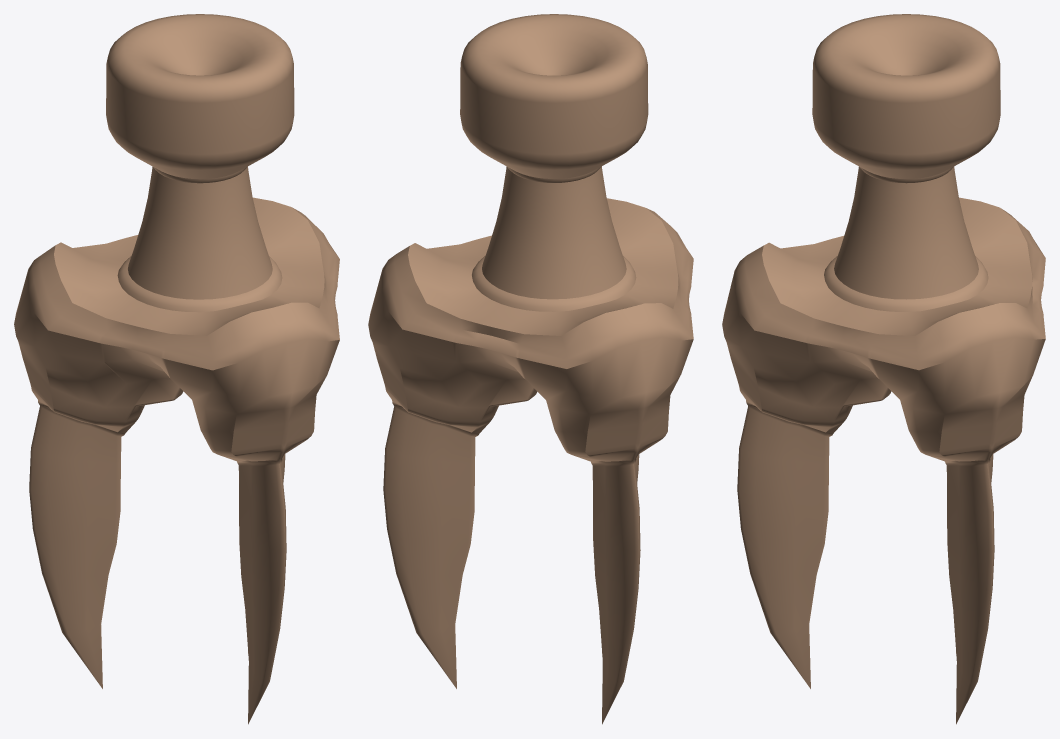
File: Tampon_Model00.fbx
3 renders of one model, left to right at view 1: azimuth 30°, elevation 25°; view 2: azimuth 150°, elevation 25°; view 3: azimuth 270°, elevation 25°, orthographic.
Parts seen in each view (by area): view 1: Tampon; view 2: Tampon; view 3: Tampon.
Part boxes in pixels (x1=…): Tampon: x1=14, y1=14, x2=339, y2=724; Tampon: x1=368, y1=14, x2=693, y2=724; Tampon: x1=722, y1=14, x2=1045, y2=724.
Bounding box in the file's own units: 5.05 × 10.36 × 4.74.
